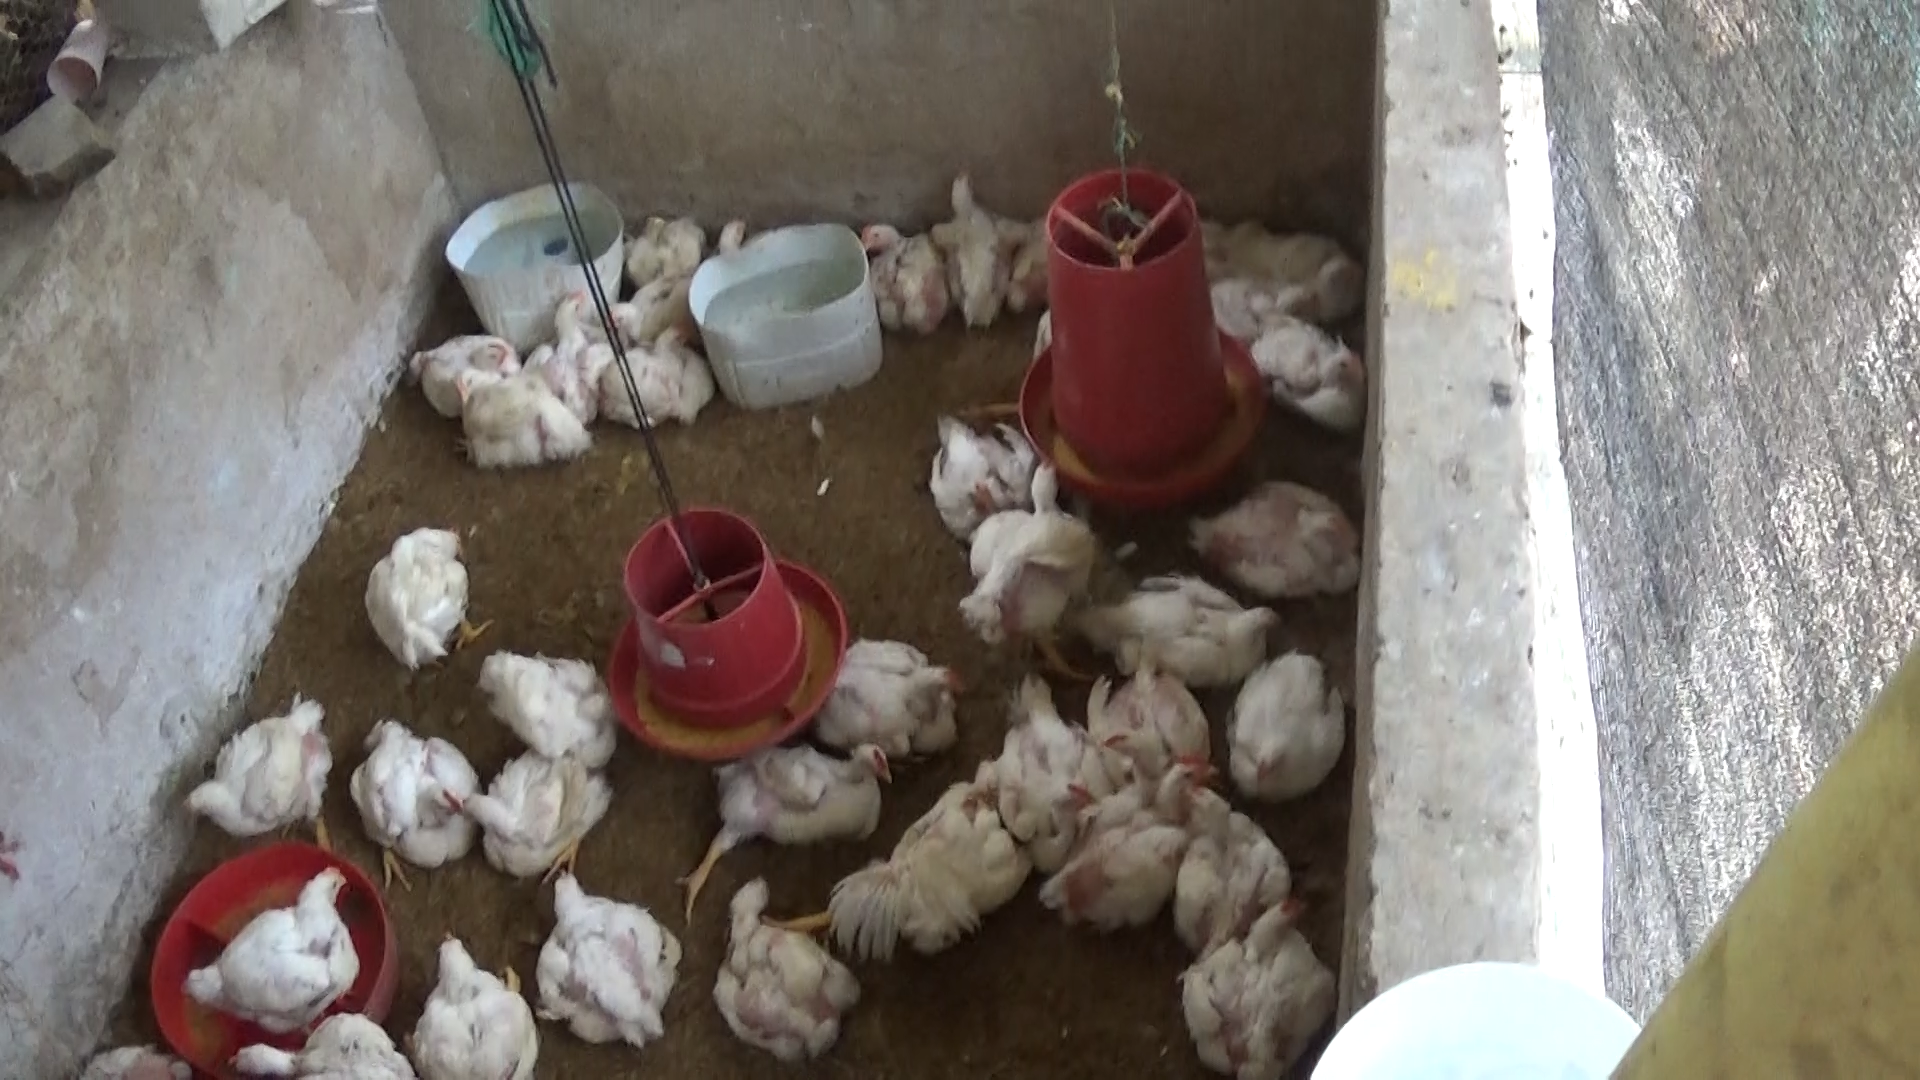Pollos: (662, 735, 909, 898), (806, 773, 1029, 952), (1162, 889, 1336, 1073), (1036, 756, 1218, 928), (951, 454, 1108, 653), (530, 866, 686, 1047), (709, 866, 855, 1058), (191, 868, 363, 1029), (173, 696, 338, 858), (1215, 636, 1366, 804), (340, 717, 487, 882), (1077, 567, 1276, 683), (1180, 472, 1364, 597), (467, 644, 625, 785), (363, 516, 495, 684), (981, 665, 1105, 843), (410, 920, 535, 1080), (471, 744, 615, 876), (1166, 781, 1286, 934), (915, 409, 1060, 529), (1096, 651, 1215, 794), (442, 359, 589, 462), (831, 633, 960, 748), (1253, 305, 1367, 431), (517, 280, 616, 415), (612, 311, 736, 413), (229, 1002, 406, 1073), (926, 173, 1007, 323), (855, 204, 947, 334), (404, 323, 512, 404), (618, 200, 725, 276)
